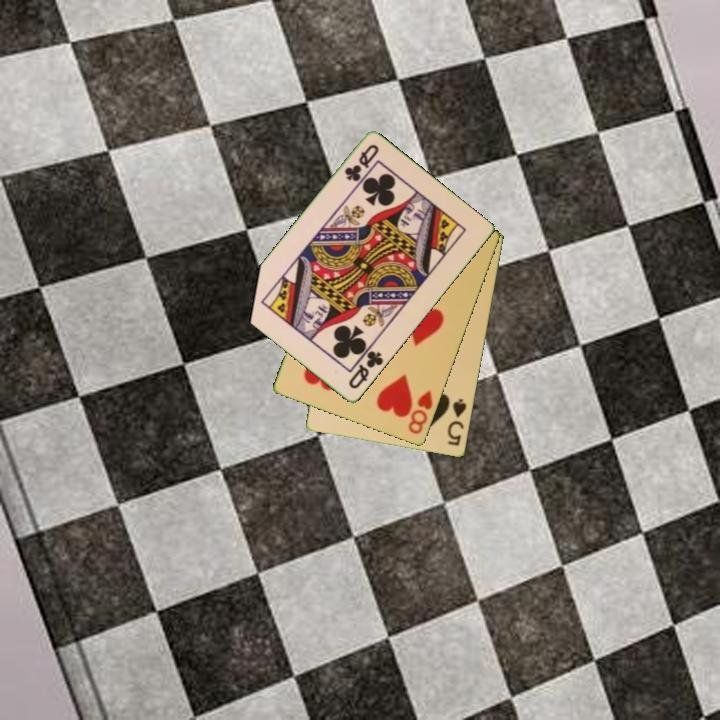5s: (444, 395, 470, 449)
8h: (405, 387, 436, 437)
Qc: (345, 347, 387, 393), (341, 141, 382, 185)
